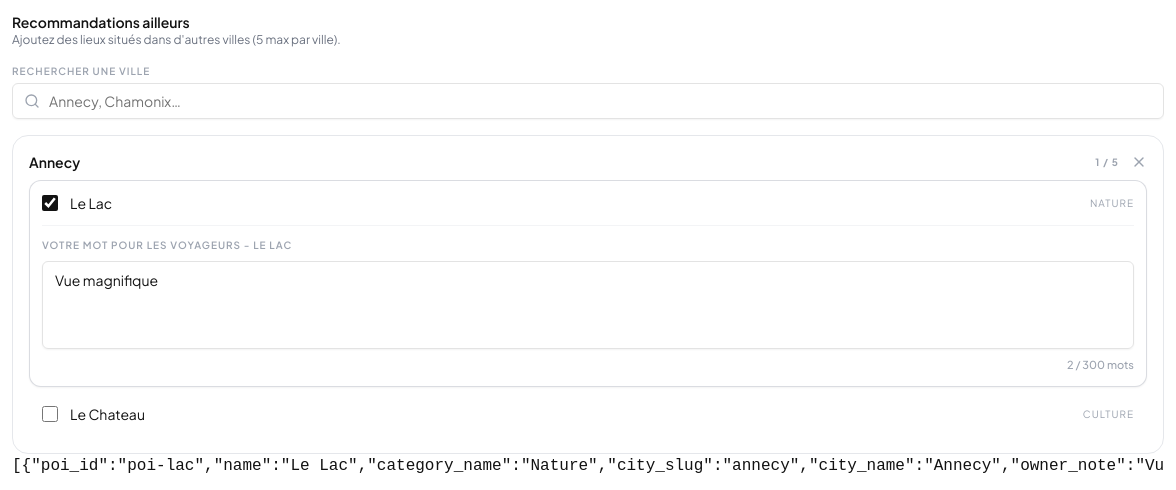
Scenario: AC-02-05: commentaire Owner inter-ville › rehydrates, edits and counts the selected POI comment
The image size is (1176, 490).
Expected: the text "2 / 300 mots" is shown, [1067,358,1134,371]
Replace the text in the text box labelled "Votre mot pour les voyageurs - Le Lac" with "Parfait pour une promenade au coucher du soleil" at x=588, y=305, box [42,261,1134,349]
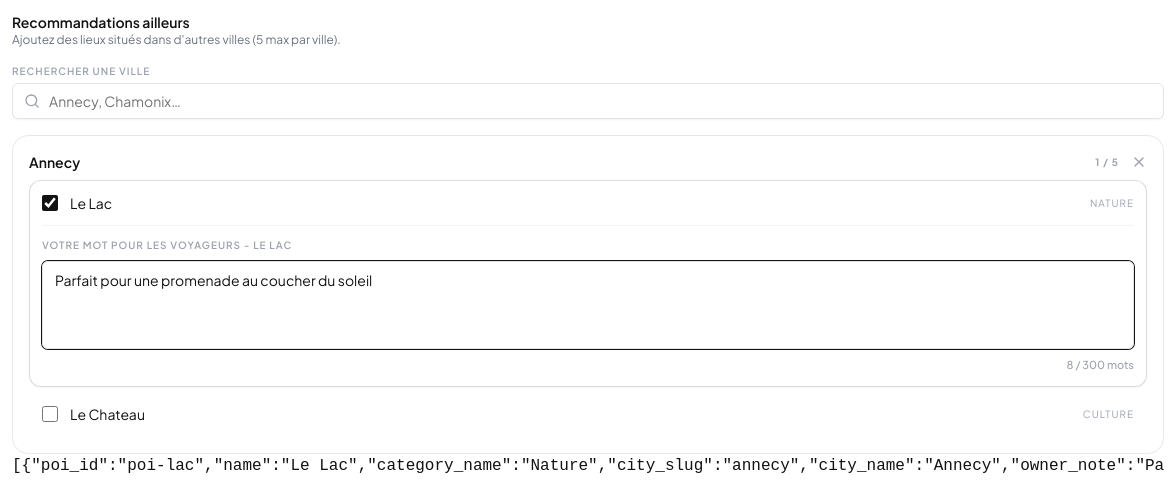
Expected: the text "8 / 300 mots" is shown, [1067,358,1134,371]
